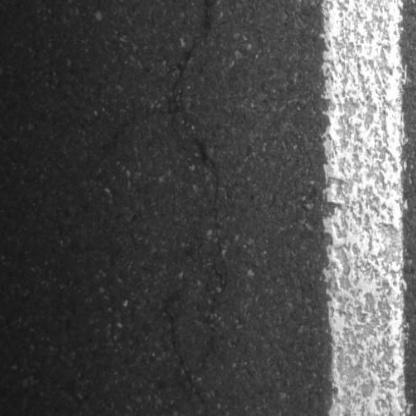Cracks: (170, 0, 212, 148), (163, 286, 210, 416), (194, 140, 228, 297)
